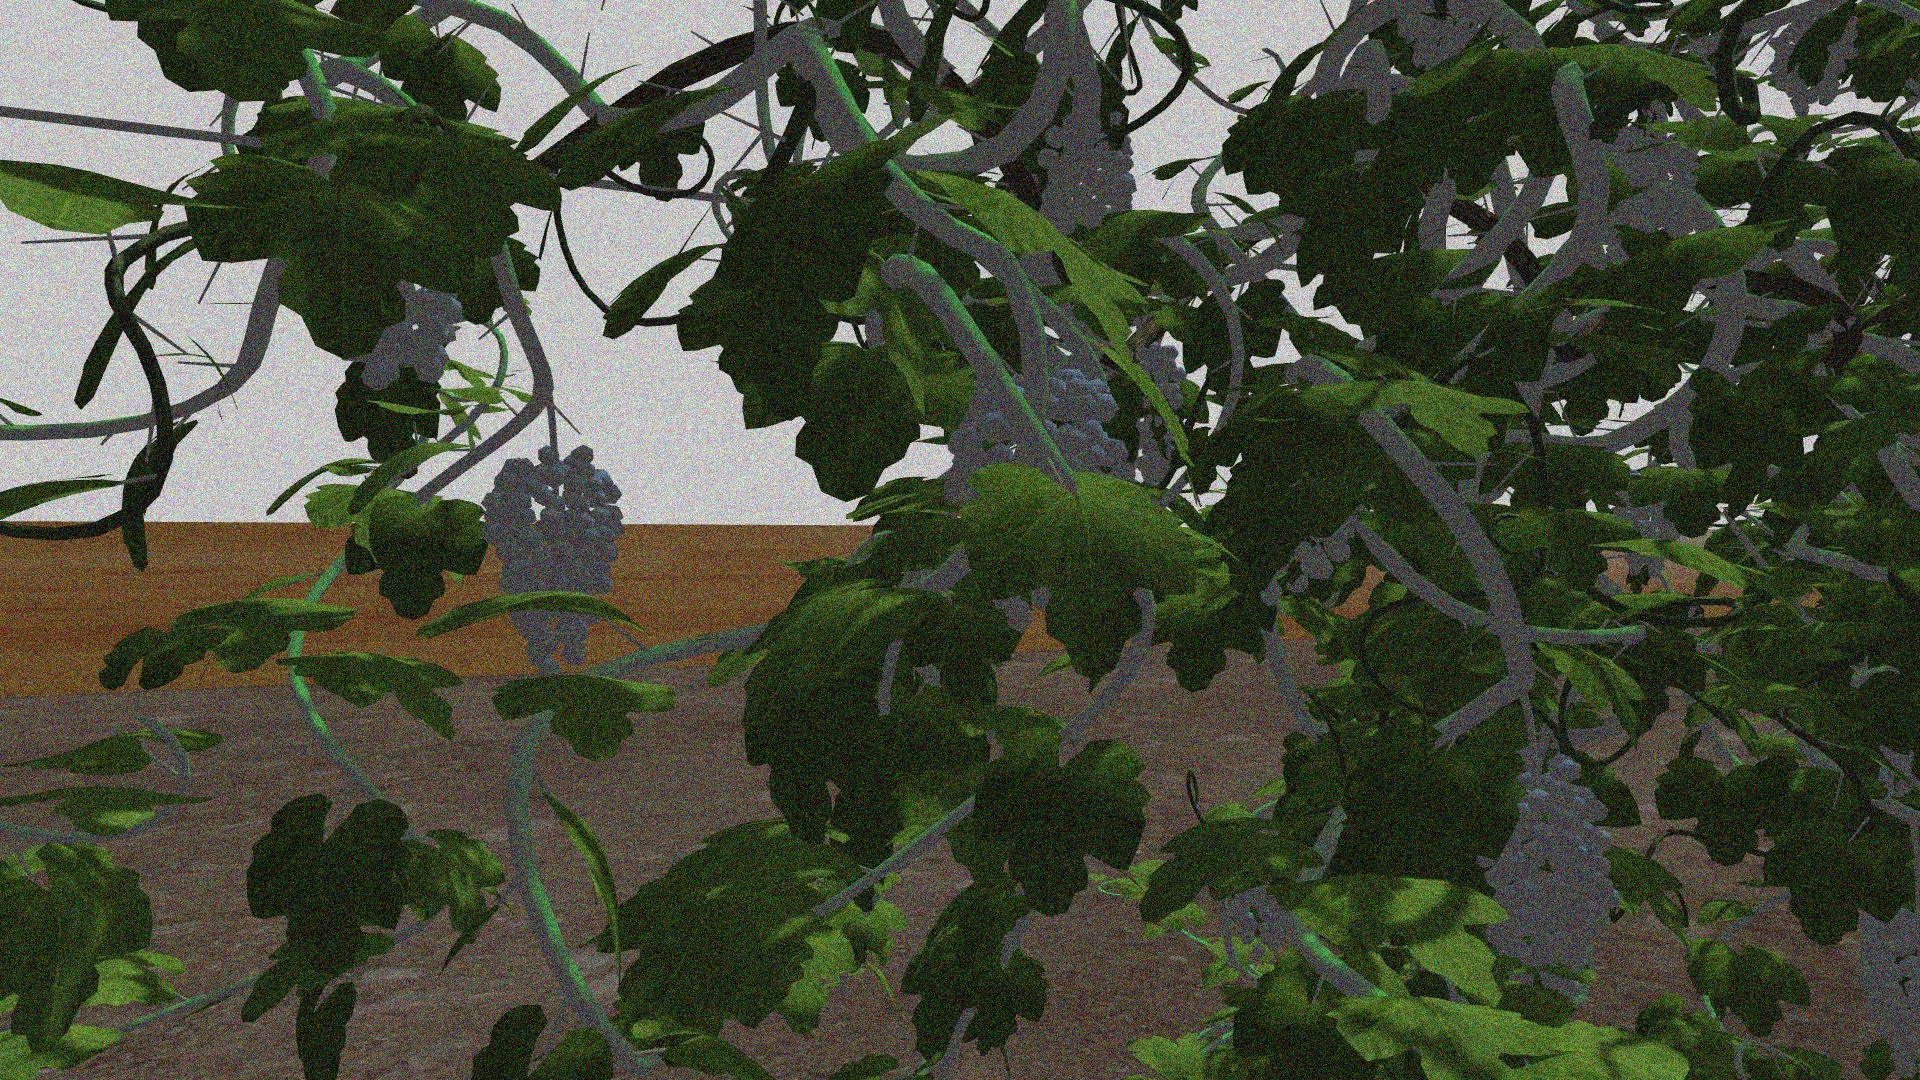grape: (479, 440, 625, 683), (1481, 752, 1611, 993), (944, 359, 1127, 480), (351, 269, 462, 392), (1038, 113, 1139, 231)
